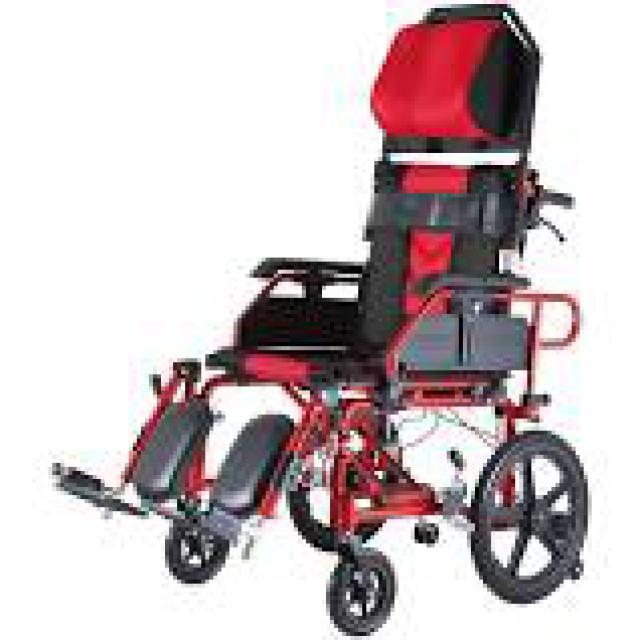wheelchairs: (63, 11, 595, 630)
